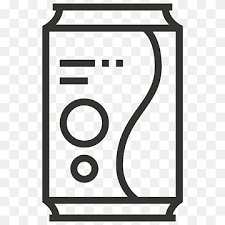can: (41, 2, 184, 222)
